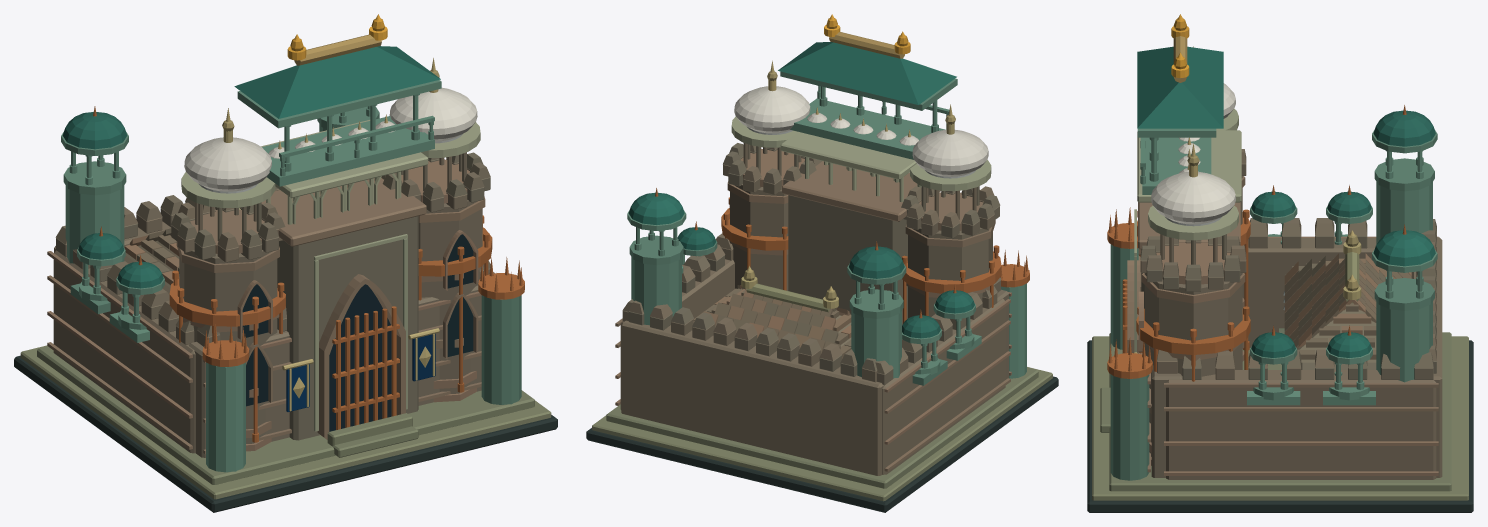
3 views of the same model, side by side, from view 1: azimuth 30°, elevation 25°; view 2: azimuth 150°, elevation 25°; view 3: azimuth 270°, elevation 25° (orthographic). The views are drawn at different scales.
Parts seen in each view (by area): view 1: barracks_L8_0, barracks_L8_1; view 2: barracks_L8_0, barracks_L8_1; view 3: barracks_L8_0, barracks_L8_1.
Boxes of the visible parts, box(x1,y1,x2,y2) form: barracks_L8_0: box(14, 18, 557, 512); barracks_L8_1: box(93, 14, 524, 442); barracks_L8_0: box(586, 18, 1058, 512); barracks_L8_1: box(655, 14, 1029, 323); barracks_L8_0: box(1087, 18, 1473, 512); barracks_L8_1: box(1107, 14, 1406, 381).
Size of the model in its own units: 5.6 by 6.38 by 5.6.
